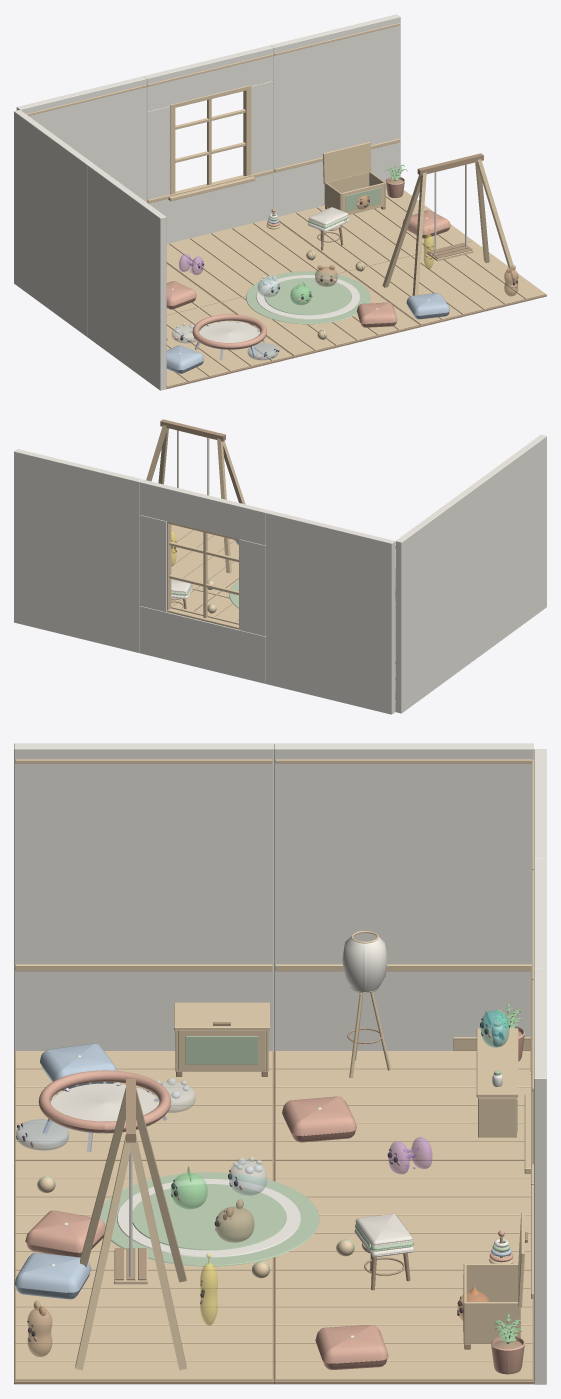
The model's file is jelly-friends-playroom-afternoon-playroo-c0481e25-starter-scene__27646.glb.
3 views of the same model, one above another, from view 1: azimuth 30°, elevation 25°; view 2: azimuth 150°, elevation 25°; view 3: azimuth 270°, elevation 25° (orthographic). The views are drawn at different scales.
Parts seen in each view (by area): view 1: 008-wall-bay-oak-2m/0, 010-wall-bay-oak-2m/0, 009-wall-bay-oak-2m/0, 006-wall-bay-oak-2m/0, 007-wall-window-bay-2m/0, 007-wall-window-bay-2m/1, 012-rug-round/2, 007-wall-window-bay-2m/2, 007-wall-window-bay-2m/3, 012-rug-round/0, 025-toy-box-oak-open/lid, 001-floor-tile-oak-2m/2 (+47 smaller); view 2: 006-wall-bay-oak-2m/0, 008-wall-bay-oak-2m/0, 009-wall-bay-oak-2m/0, 010-wall-bay-oak-2m/0, 007-wall-window-bay-2m/0, 007-wall-window-bay-2m/1, 007-wall-window-bay-2m/3, 007-wall-window-bay-2m/2, 005-floor-tile-oak-2m/3, 005-floor-tile-oak-2m/2, 020-swing-a-frame/0, 005-floor-tile-oak-2m/4 (+7 smaller); view 3: 009-wall-bay-oak-2m/0, 010-wall-bay-oak-2m/0, 012-rug-round/2, 008-wall-bay-oak-2m/0, 005-floor-tile-oak-2m/6, 000-floor-tile-oak-2m/6, 005-floor-tile-oak-2m/5, 005-floor-tile-oak-2m/3, 005-floor-tile-oak-2m/4, 001-floor-tile-oak-2m/2, 001-floor-tile-oak-2m/1, 002-floor-tile-oak-2m/6 (+65 smaller).
Boxes of the visible parts, bbox=[...] form: 008-wall-bay-oak-2m/0: bbox=[270, 14, 400, 216]; 010-wall-bay-oak-2m/0: bbox=[87, 163, 166, 390]; 009-wall-bay-oak-2m/0: bbox=[14, 110, 92, 336]; 006-wall-bay-oak-2m/0: bbox=[16, 76, 146, 200]; 007-wall-window-bay-2m/0: bbox=[148, 173, 273, 243]; 007-wall-window-bay-2m/1: bbox=[143, 45, 273, 111]; 012-rug-round/2: bbox=[264, 278, 351, 315]; 007-wall-window-bay-2m/2: bbox=[147, 106, 169, 202]; 007-wall-window-bay-2m/3: bbox=[251, 81, 273, 174]; 012-rug-round/0: bbox=[246, 271, 370, 324]; 025-toy-box-oak-open/lid: bbox=[323, 142, 371, 184]; 001-floor-tile-oak-2m/2: bbox=[169, 238, 252, 297]; 006-wall-bay-oak-2m/0: bbox=[266, 510, 395, 714]; 008-wall-bay-oak-2m/0: bbox=[14, 449, 142, 653]; 009-wall-bay-oak-2m/0: bbox=[395, 488, 474, 713]; 010-wall-bay-oak-2m/0: bbox=[468, 434, 546, 659]; 007-wall-window-bay-2m/0: bbox=[140, 606, 265, 683]; 007-wall-window-bay-2m/1: bbox=[140, 479, 268, 545]; 007-wall-window-bay-2m/3: bbox=[140, 515, 166, 611]; 007-wall-window-bay-2m/2: bbox=[239, 539, 265, 636]; 005-floor-tile-oak-2m/3: bbox=[171, 535, 234, 580]; 005-floor-tile-oak-2m/2: bbox=[184, 540, 238, 589]; 020-swing-a-frame/0: bbox=[217, 438, 231, 573]; 005-floor-tile-oak-2m/4: bbox=[171, 530, 213, 566]; 009-wall-bay-oak-2m/0: bbox=[274, 743, 533, 1052]; 010-wall-bay-oak-2m/0: bbox=[14, 743, 273, 1052]; 012-rug-round/2: bbox=[132, 1184, 286, 1250]; 008-wall-bay-oak-2m/0: bbox=[534, 968, 546, 1384]; 005-floor-tile-oak-2m/6: bbox=[15, 1361, 272, 1380]; 000-floor-tile-oak-2m/6: bbox=[275, 1142, 524, 1160]; 005-floor-tile-oak-2m/5: bbox=[15, 1343, 272, 1361]; 005-floor-tile-oak-2m/3: bbox=[15, 1307, 272, 1325]; 005-floor-tile-oak-2m/4: bbox=[15, 1325, 272, 1343]; 001-floor-tile-oak-2m/2: bbox=[275, 1179, 530, 1197]; 001-floor-tile-oak-2m/1: bbox=[275, 1161, 530, 1178]; 002-floor-tile-oak-2m/6: bbox=[275, 1361, 532, 1380].
Size of the model in its own units: 6.1 by 2.6 by 4.1.
